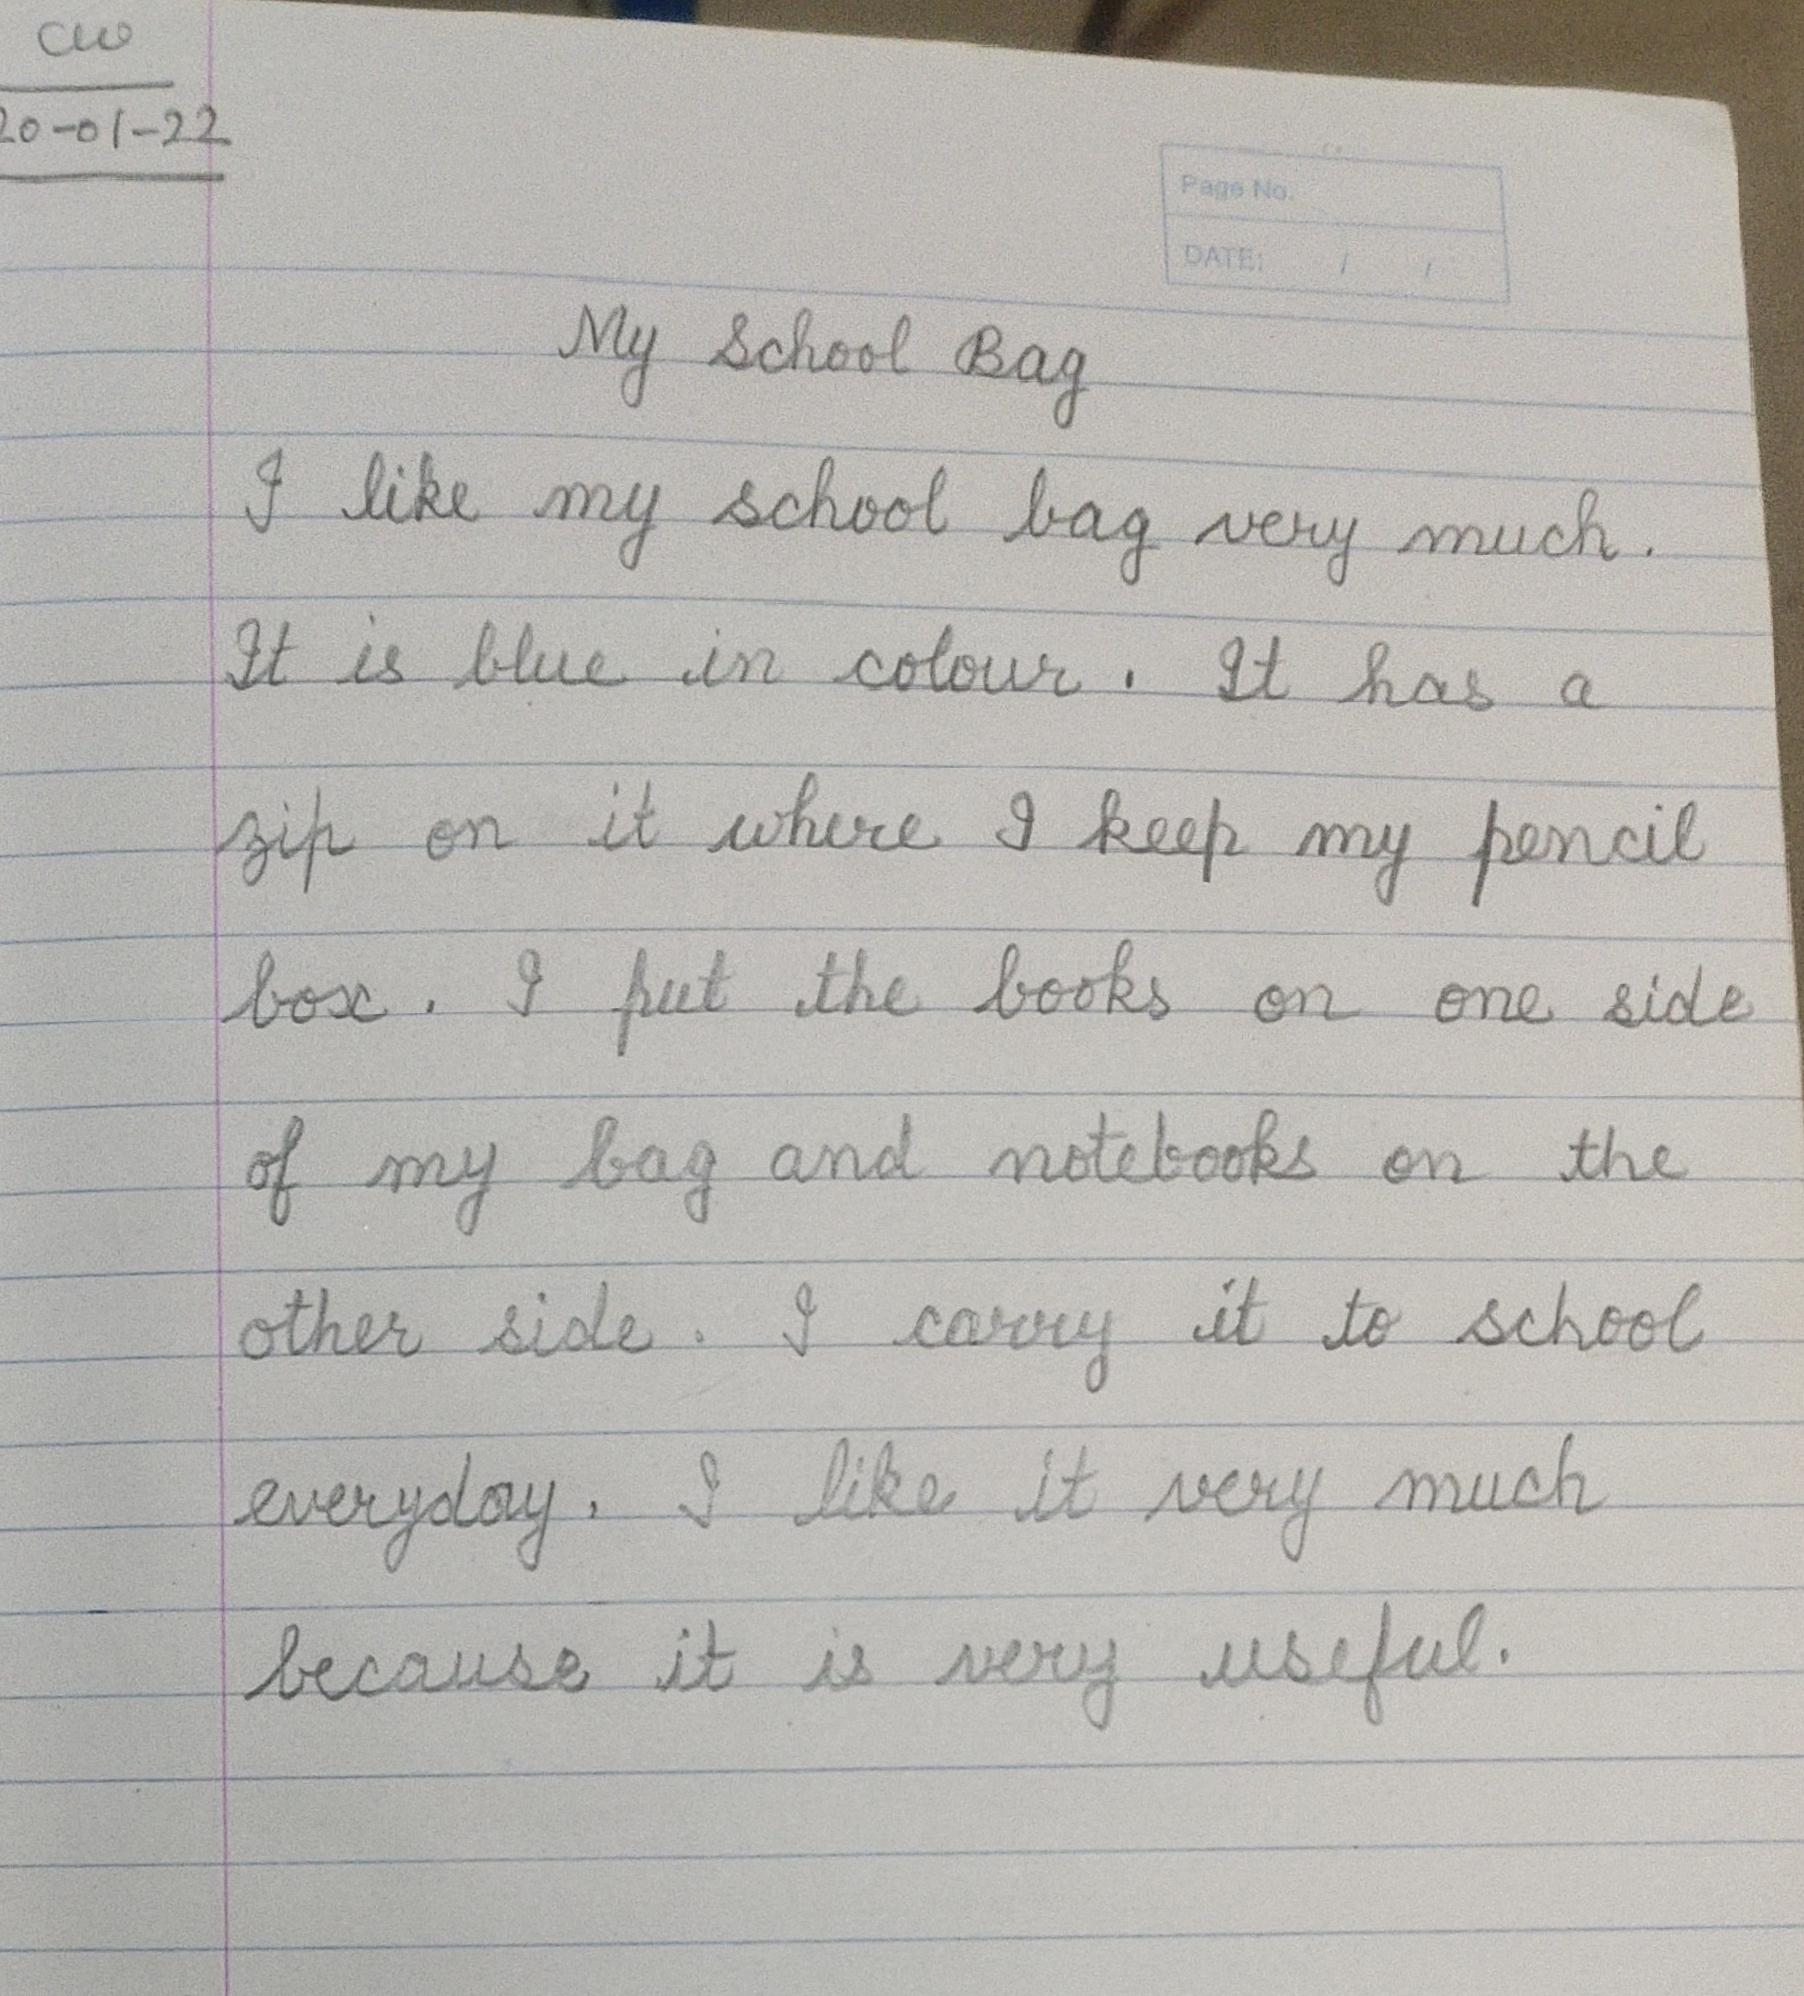text: (226, 1420, 1613, 1589), (233, 440, 1667, 596), (233, 1109, 1703, 1250), (229, 1267, 1714, 1403), (236, 1584, 1517, 1740), (207, 784, 1717, 913), (210, 934, 1768, 1050), (210, 610, 1616, 723), (547, 297, 1097, 440), (3, 97, 233, 160), (1170, 163, 1293, 217), (23, 10, 141, 63), (1180, 233, 1263, 280)
